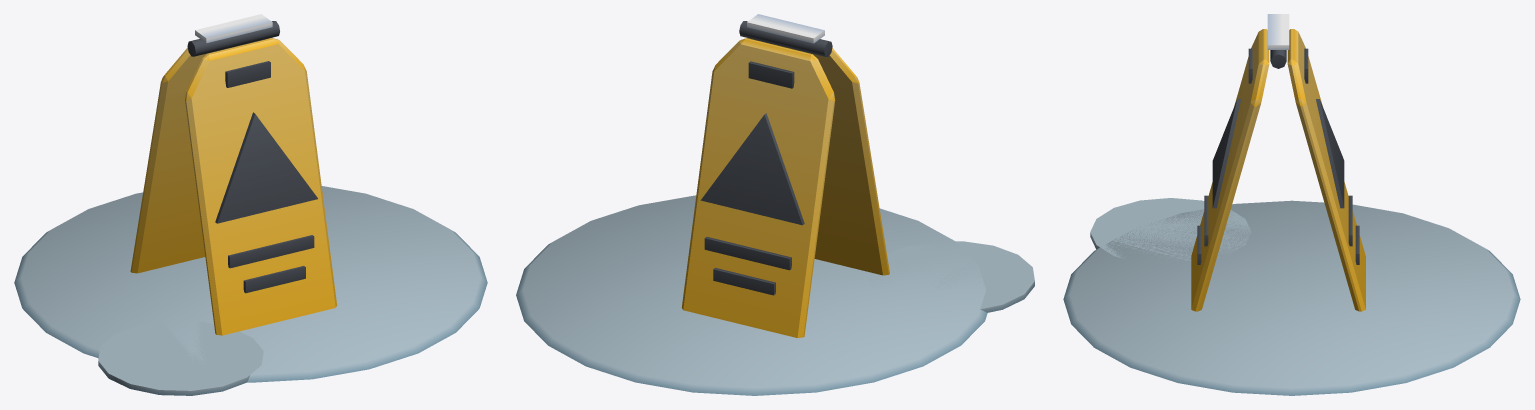
File: ck_meme_wet_floor_sign.fbx
The picture shows the model from 3 angles, left to right: view 1: azimuth 30°, elevation 25°; view 2: azimuth 150°, elevation 25°; view 3: azimuth 270°, elevation 25°; orthographic projection. The views are drawn at different scales.
Parts seen in each view (by area): view 1: ck_meme_wet_floor_sign; view 2: ck_meme_wet_floor_sign; view 3: ck_meme_wet_floor_sign.
Part boxes in pixels (x1,y1,x2,y2): ck_meme_wet_floor_sign: (14, 14, 487, 395); ck_meme_wet_floor_sign: (516, 14, 1034, 395); ck_meme_wet_floor_sign: (1063, 14, 1520, 395).
Bounding box in the file's own units: 340 × 212 × 340.
